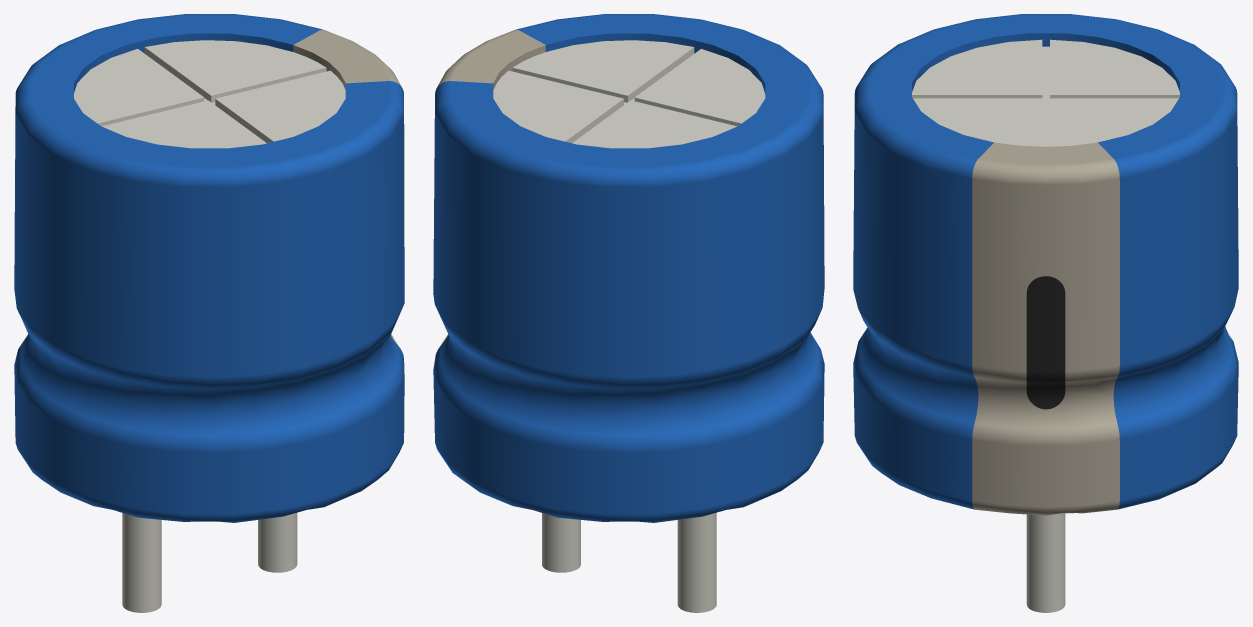
File: Capacitor_THT__CP_Radial_D5.0mm_P2.00mm.glb
The picture shows the model from 3 angles, left to right: view 1: azimuth 30°, elevation 25°; view 2: azimuth 150°, elevation 25°; view 3: azimuth 270°, elevation 25°; orthographic projection.
Visible parts, largest first — view 1: CP_Radial_D50mm_P200mm; view 2: CP_Radial_D50mm_P200mm; view 3: CP_Radial_D50mm_P200mm.
Part boxes in pixels (x1=…): CP_Radial_D50mm_P200mm: x1=14, y1=14, x2=404, y2=612; CP_Radial_D50mm_P200mm: x1=433, y1=14, x2=824, y2=612; CP_Radial_D50mm_P200mm: x1=853, y1=14, x2=1238, y2=612.
Size of the model in its own units: 0.00498 by 0.007 by 0.005.
